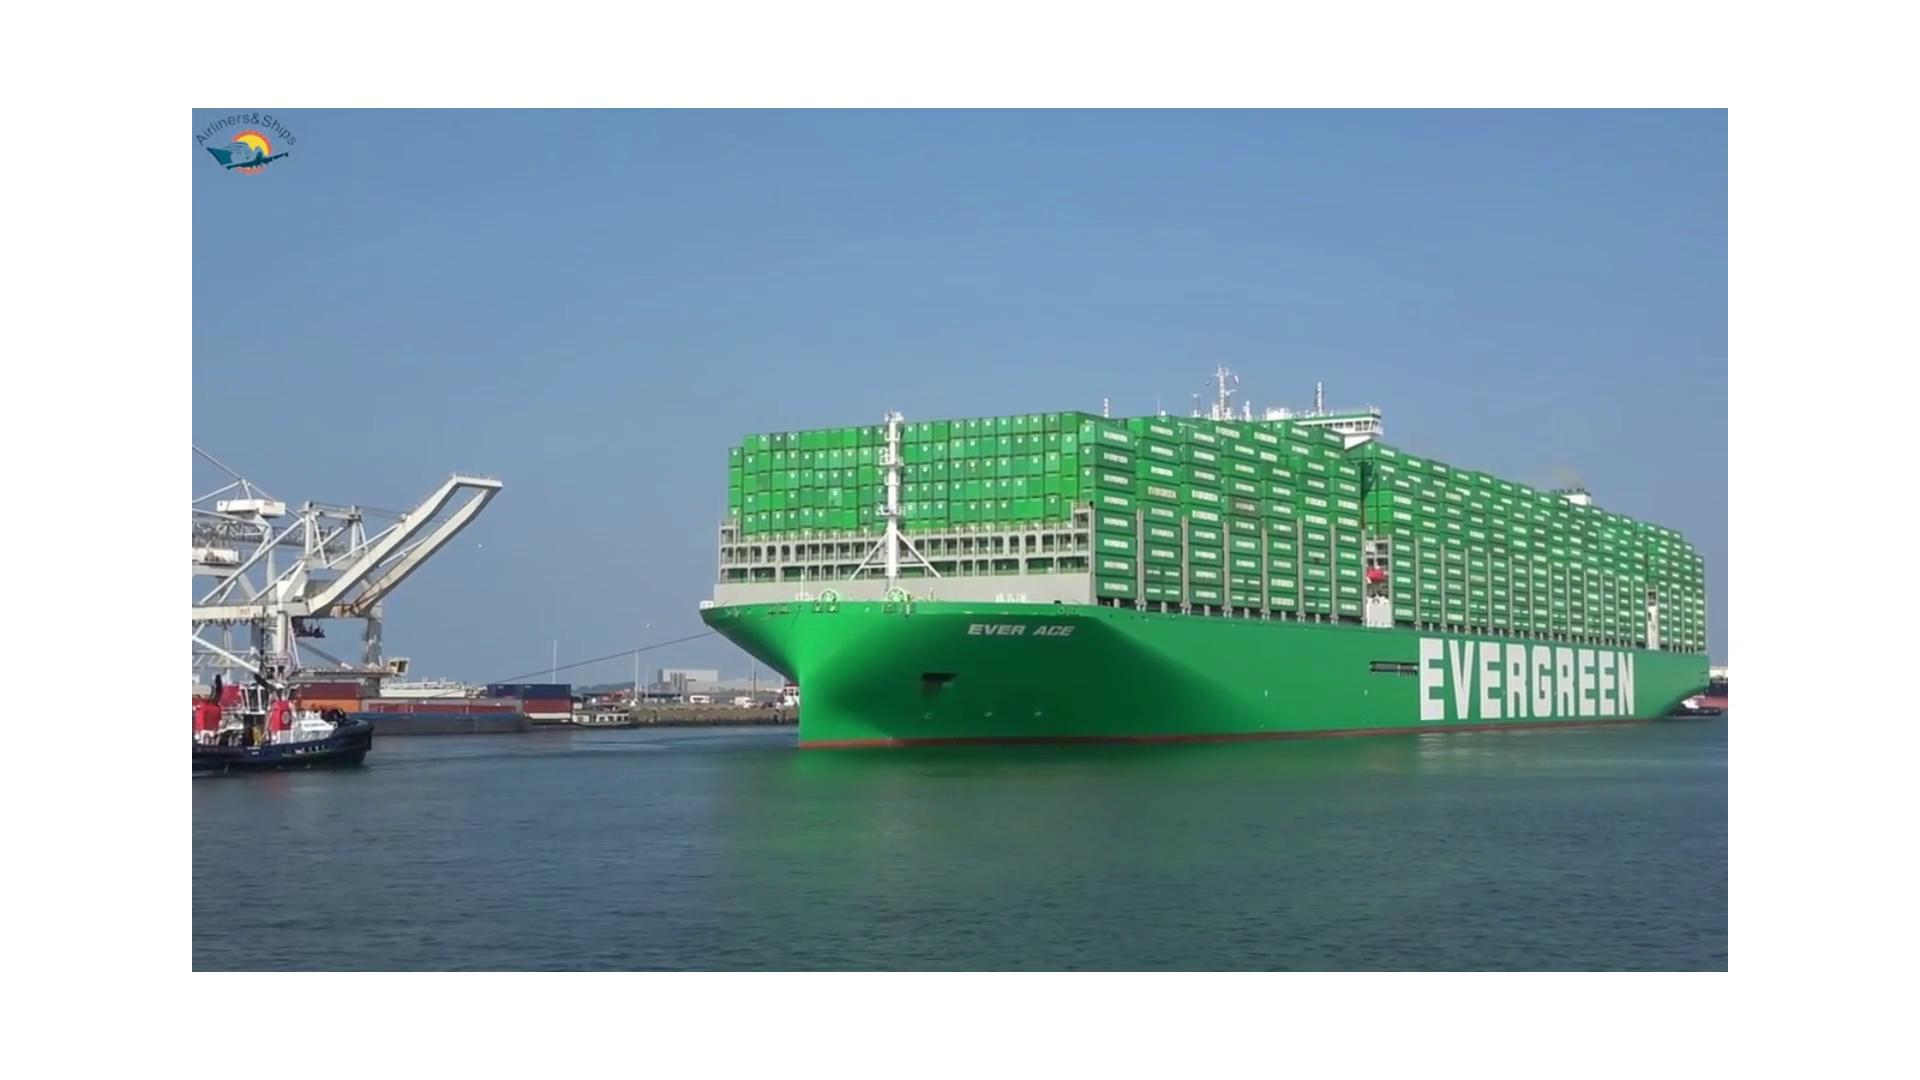OCR: (1407, 621, 1662, 737), (951, 609, 1091, 655)
